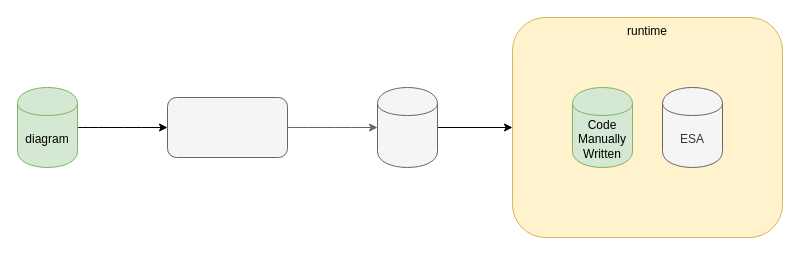
The diagram is 800 pixels wide and 255 high, and some of its shapes have lost their labels. The shapes that lost their labels are listed below. From the top down, each one's centre as x and y in pixels, then its label:
At pixel 227 127: "diagram compiler (Arrowgrams)".
At pixel 407 127: "JSON (graph)".
